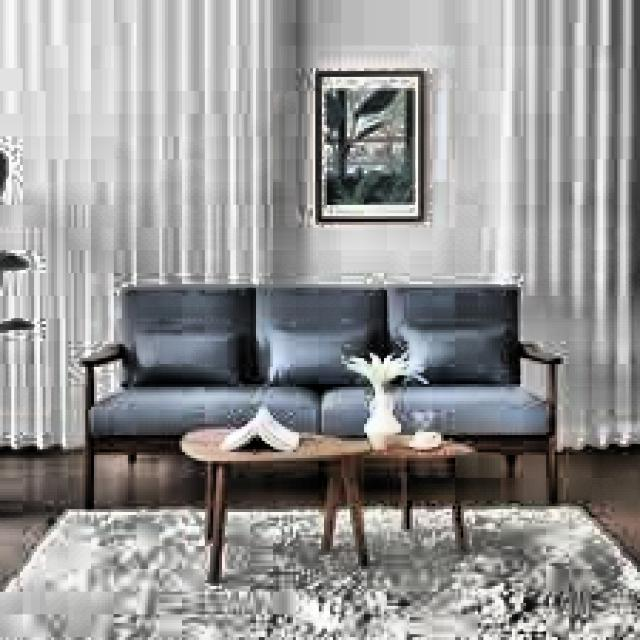sofa: (69, 282, 558, 504)
